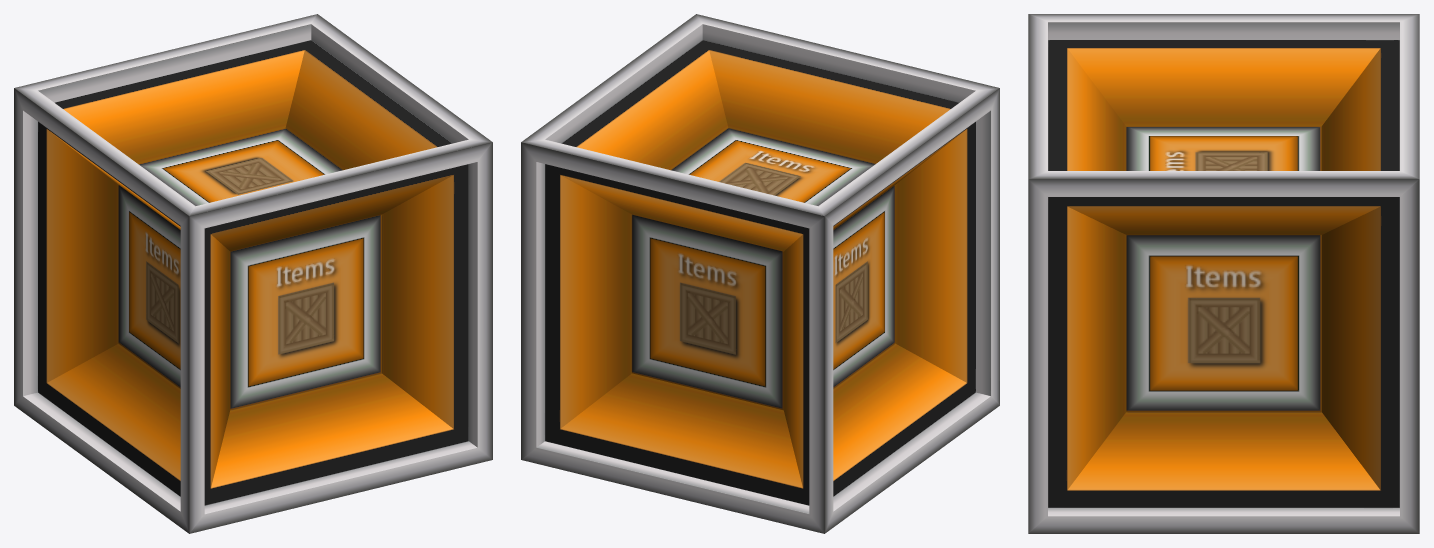
The model's file is infinite_barrel.obj.
3 renders of one model, left to right at view 1: azimuth 30°, elevation 25°; view 2: azimuth 150°, elevation 25°; view 3: azimuth 270°, elevation 25°, orthographic. The views are drawn at different scales.
Parts seen in each view (by area): view 1: Cube.002; view 2: Cube.002; view 3: Cube.002.
Boxes of the visible parts, <box> form: Cube.002: <box>14,14,492,533</box>; Cube.002: <box>521,14,999,533</box>; Cube.002: <box>1028,14,1419,533</box>.
Bounding box in the file's own units: 1 × 1 × 1.
